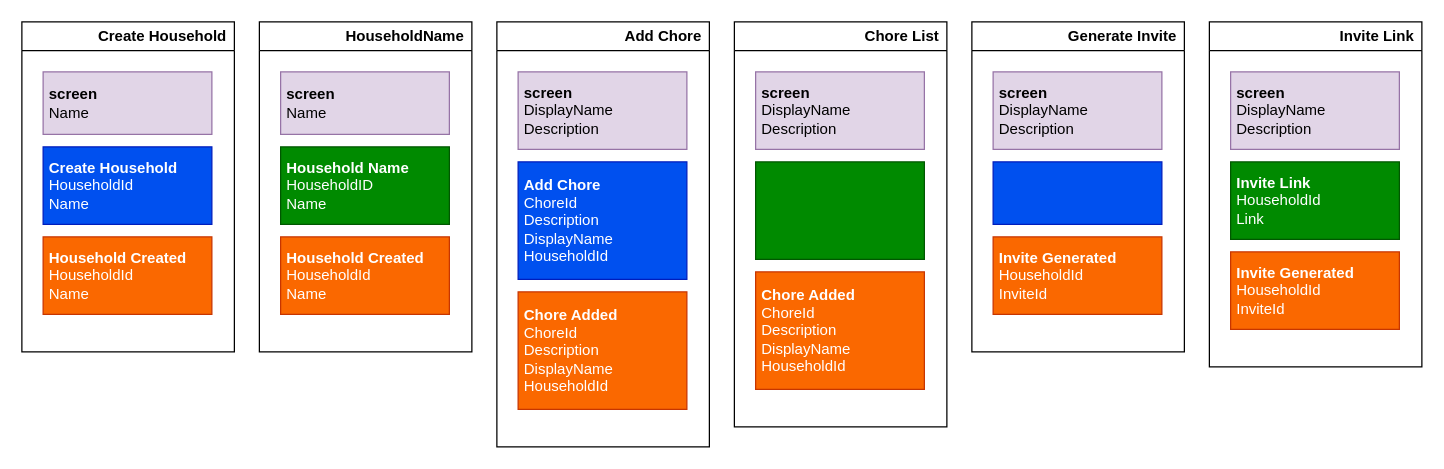
Some shapes in this 1444 by 469 pixel diagram are drawn without their labels. The centre of each missing label's shape, as x and y in pixels:
"Chore List ChoreId DisplayName HouseholdId" goes at [839,210].
"Generate Invite HouseholdId" goes at [1077,192].
